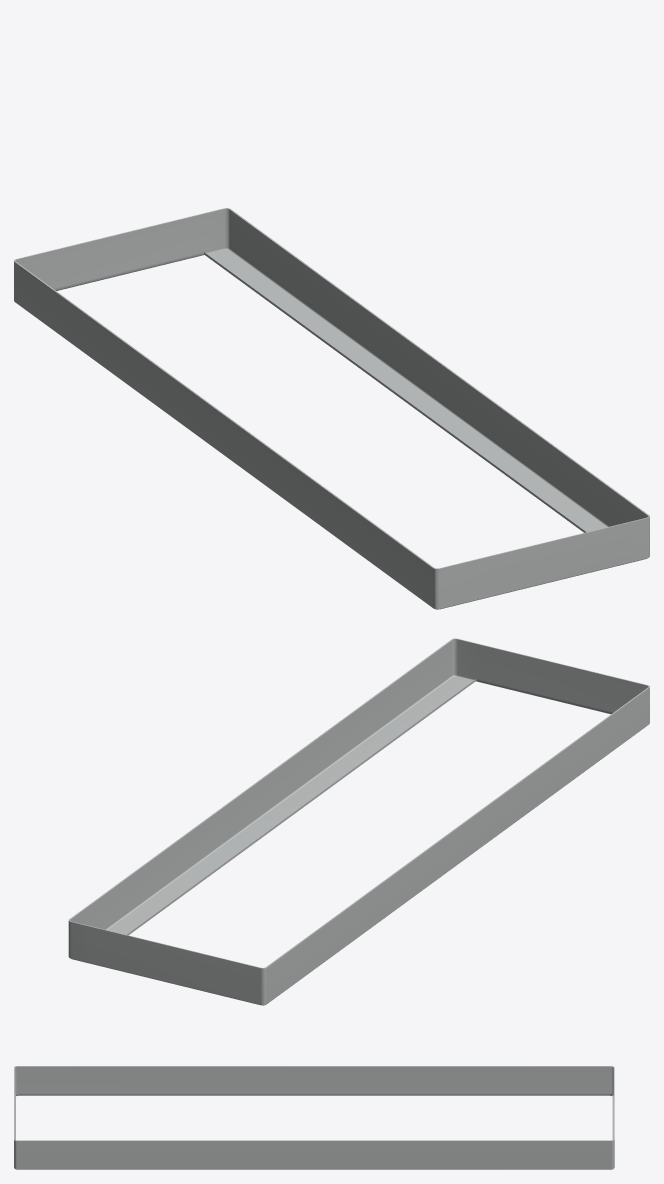
The model's file is MeshFridgeFreezerdoorD2_3_GeomSubset_2.obj.
3 renders of one model, top to bottom at view 1: azimuth 30°, elevation 25°; view 2: azimuth 150°, elevation 25°; view 3: azimuth 270°, elevation 25°, orthographic. The views are drawn at different scales.
Visible parts, largest first — view 1: MeshFridgeFreezerdoorD2_3_GeomSubset_2; view 2: MeshFridgeFreezerdoorD2_3_GeomSubset_2; view 3: MeshFridgeFreezerdoorD2_3_GeomSubset_2.
Boxes of the visible parts, x1,y1,x2,y2 form: MeshFridgeFreezerdoorD2_3_GeomSubset_2: (14, 208, 649, 609); MeshFridgeFreezerdoorD2_3_GeomSubset_2: (68, 638, 649, 1005); MeshFridgeFreezerdoorD2_3_GeomSubset_2: (14, 1066, 614, 1169).
Bounding box in the file's own units: 0.4982 × 0.3964 × 1.55.
